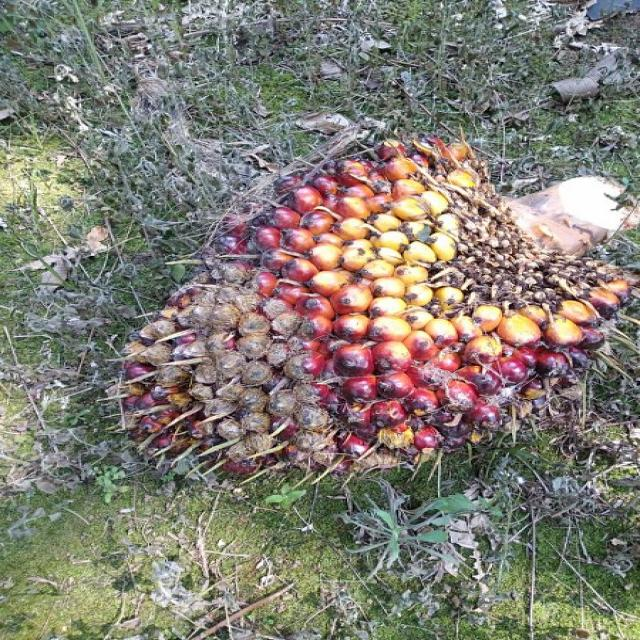fraksi 1: (25, 69, 640, 581)
